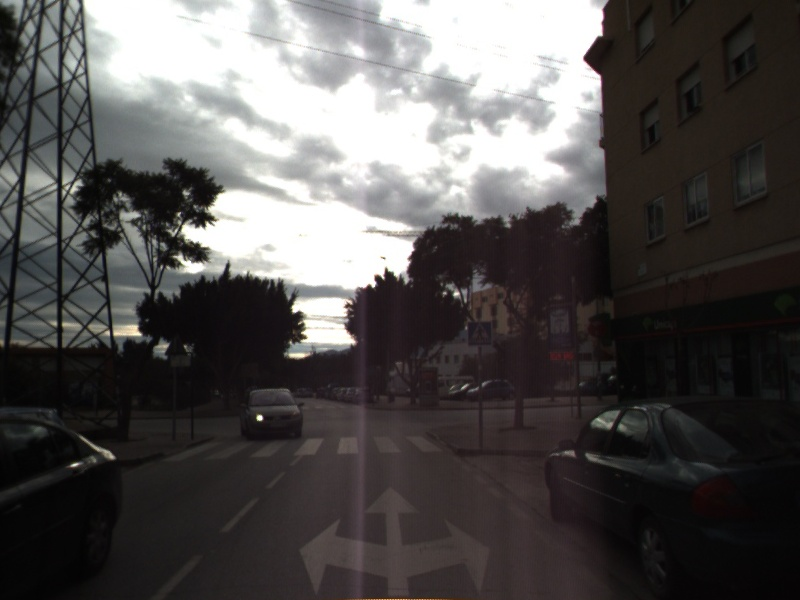STRAIGHT_LEFT_RIGHT: (297, 483, 494, 600)
